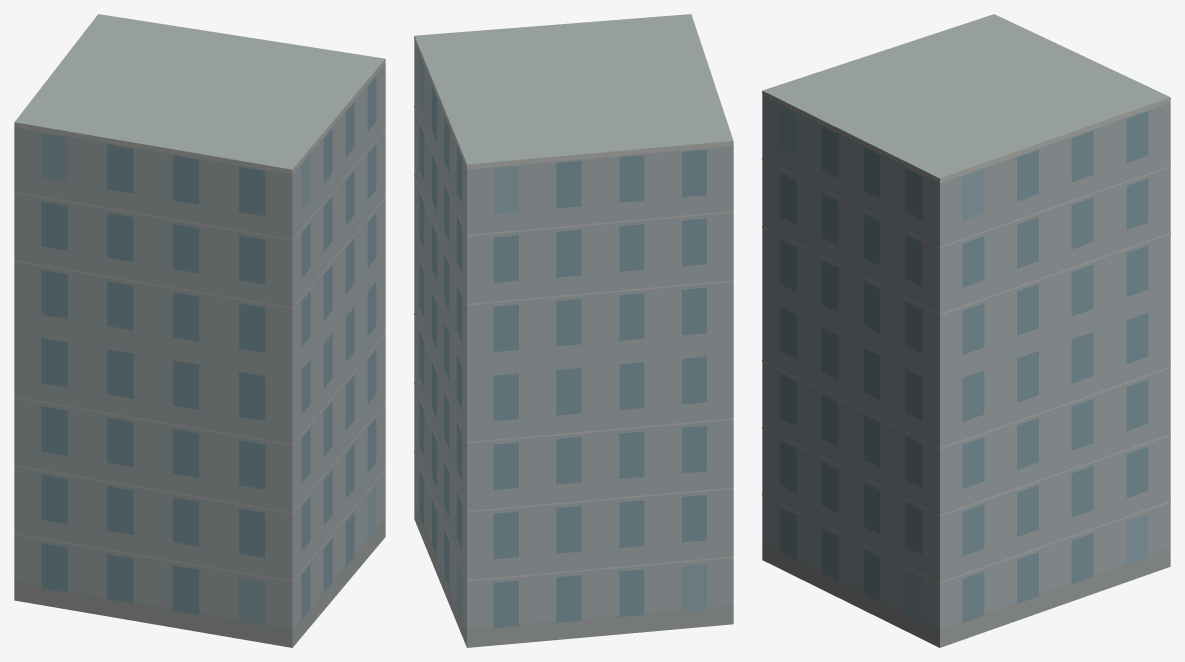
File: survey-upis-32835092.glb
The picture shows the model from 3 angles, left to right: view 1: azimuth 30°, elevation 25°; view 2: azimuth 150°, elevation 25°; view 3: azimuth 270°, elevation 25°; orthographic projection. The views are drawn at different scales.
Visible parts, largest first — view 1: survey-upis-32835092.tmp; view 2: survey-upis-32835092.tmp; view 3: survey-upis-32835092.tmp.
Part boxes in pixels (x1,y1,x2,y2): survey-upis-32835092.tmp: (14, 14, 385, 647); survey-upis-32835092.tmp: (414, 14, 733, 647); survey-upis-32835092.tmp: (762, 14, 1170, 647).
Bounding box in the file's own units: 17.68 × 23.5 × 18.55.
